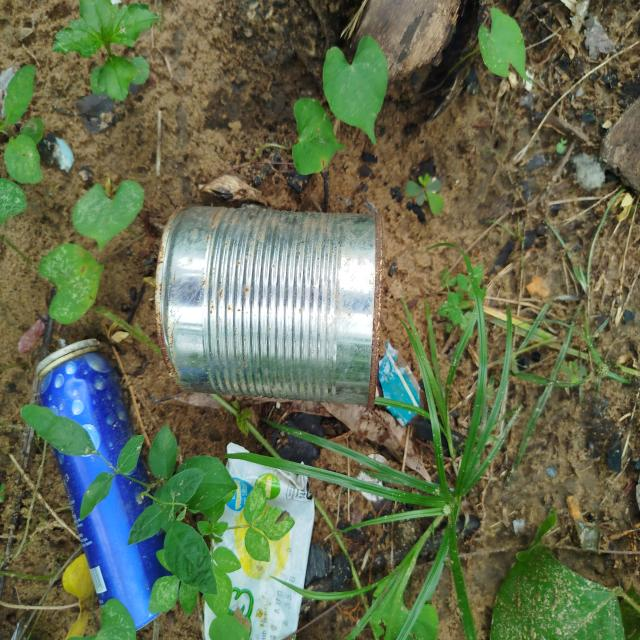metal: (146, 189, 398, 431), (23, 331, 192, 631)
residual: (201, 437, 320, 640)
